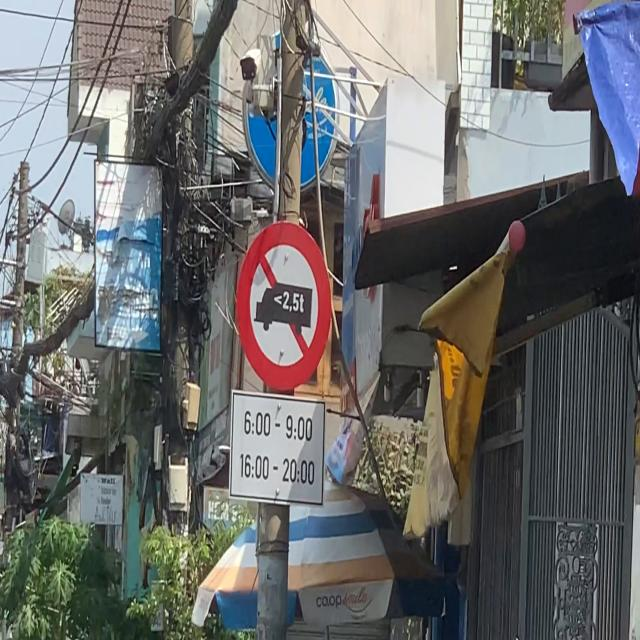Cam con lai: (232, 217, 334, 394)
